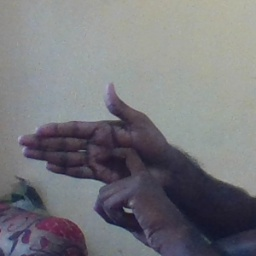R: (17, 79, 169, 220)
